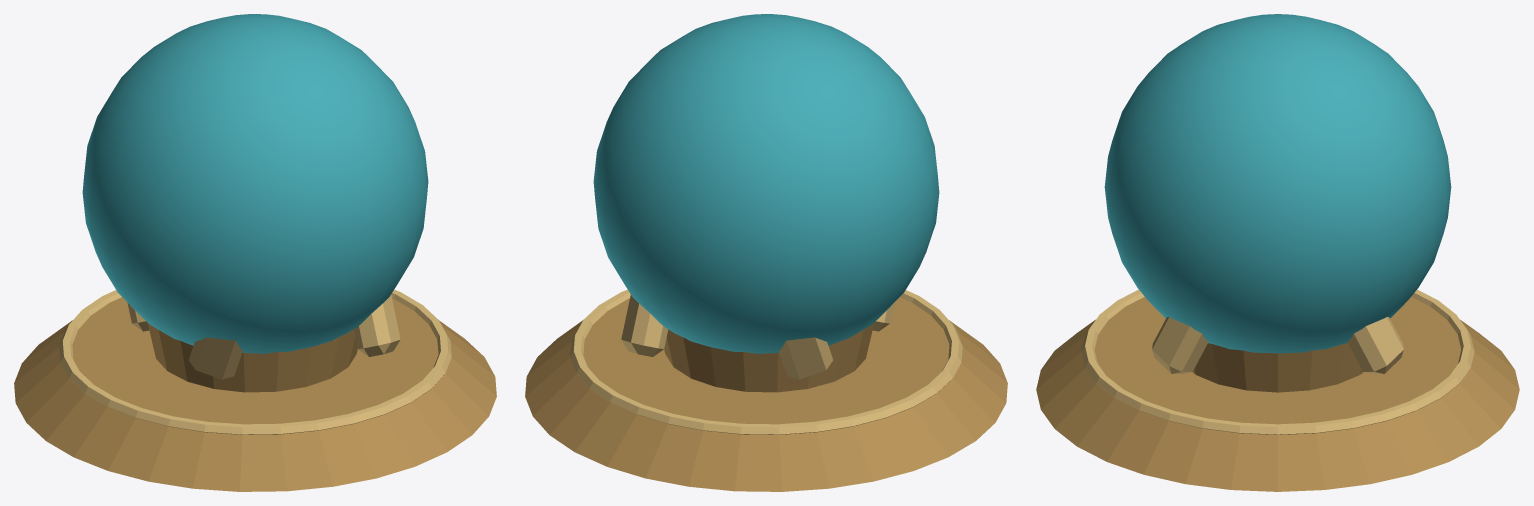
Rendered from wizard_orb_stand.glb.
The picture shows the model from 3 angles, left to right: view 1: azimuth 30°, elevation 25°; view 2: azimuth 150°, elevation 25°; view 3: azimuth 270°, elevation 25°; orthographic projection.
Visible parts, largest first — view 1: Orb, wizard_orb_stand_Static; view 2: Orb, wizard_orb_stand_Static; view 3: Orb, wizard_orb_stand_Static.
Part boxes in pixels (<box>): Orb: <box>82,14,428,353</box>; wizard_orb_stand_Static: <box>14,289,496,491</box>; Orb: <box>593,14,939,353</box>; wizard_orb_stand_Static: <box>525,289,1007,491</box>; Orb: <box>1104,14,1451,353</box>; wizard_orb_stand_Static: <box>1036,289,1519,491</box>.
Size of the model in its own units: 1.2 by 0.985 by 1.2.
